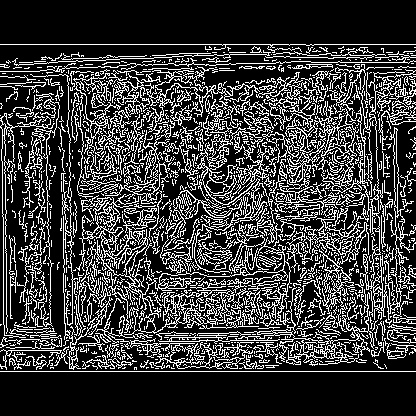buddha-sitting: (159, 102, 285, 288)
